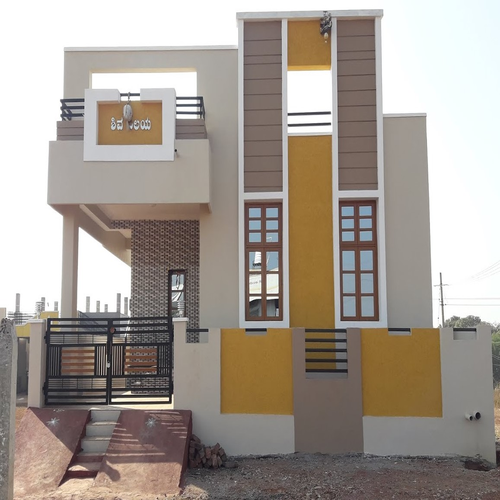Building House: (46, 7, 454, 446)
